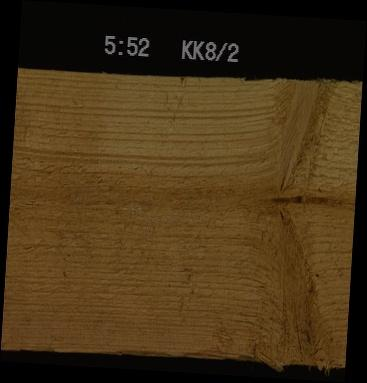wave: (113, 348, 255, 359)
